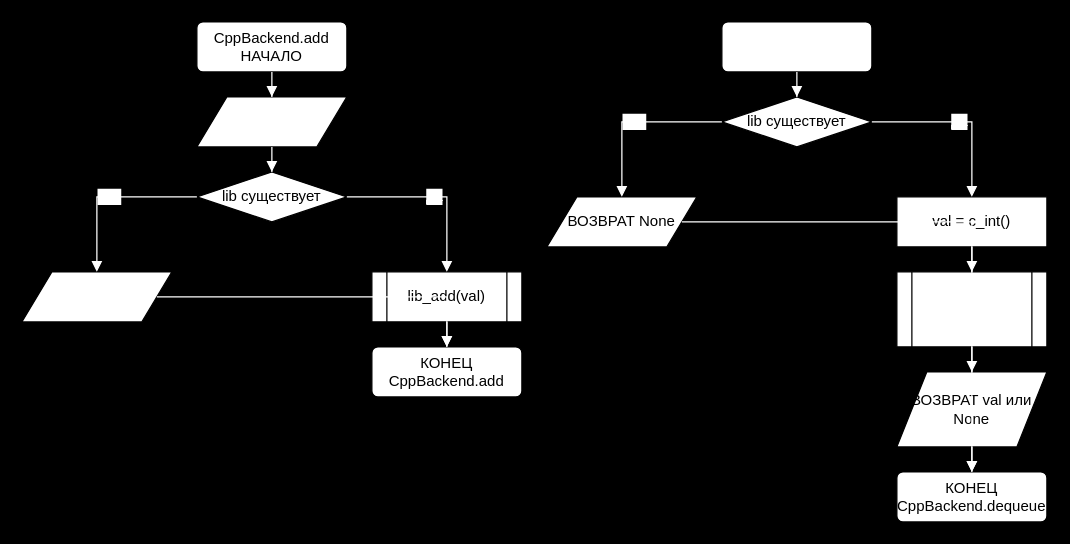
The diagram is 1070 pixels wide and 544 high, and some of its shapes have lost their labels. The box of each missing label's shape, as (x1, y1, x2, y2) in pixels:
CppBackend.dequeue НАЧАЛО: (721, 21, 872, 72)
lib_dequeue(byref(val)): (896, 271, 1047, 347)
val: (196, 96, 347, 147)
ВОЗВРАТ: (21, 271, 172, 322)
